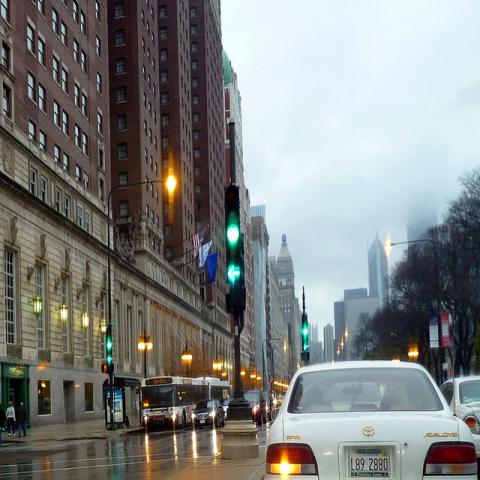bus: (140, 378, 210, 427)
car: (263, 361, 479, 479), (440, 377, 480, 438), (191, 399, 224, 430), (244, 390, 268, 424), (261, 390, 274, 420), (276, 394, 285, 408)
